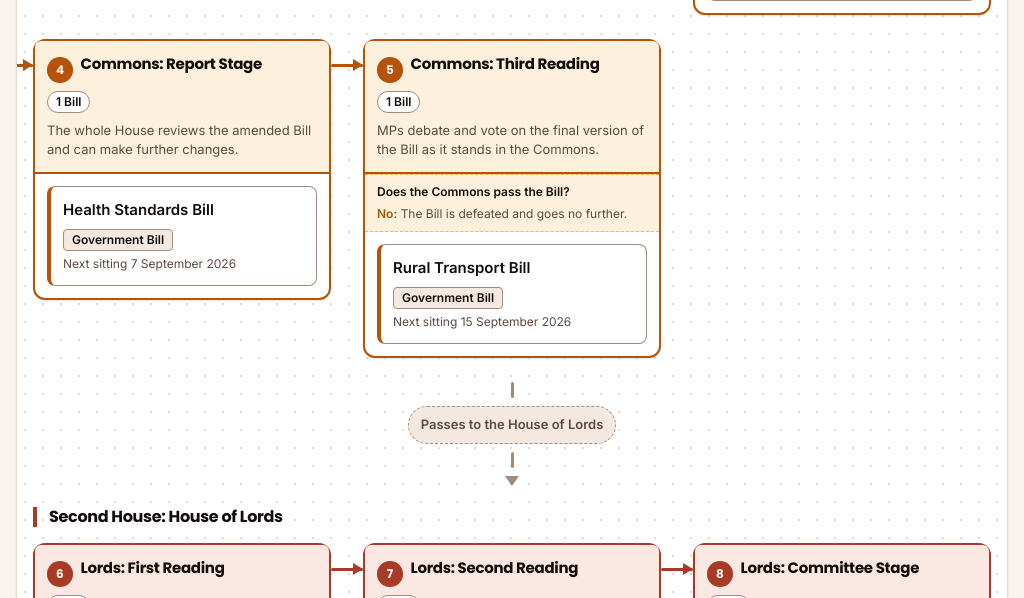
Scenario: the details panel › lists sponsors by name with no image
(page scrolled)
Click the button "Health Standards Bill" at point(138, 209), box [47,186,317,286]
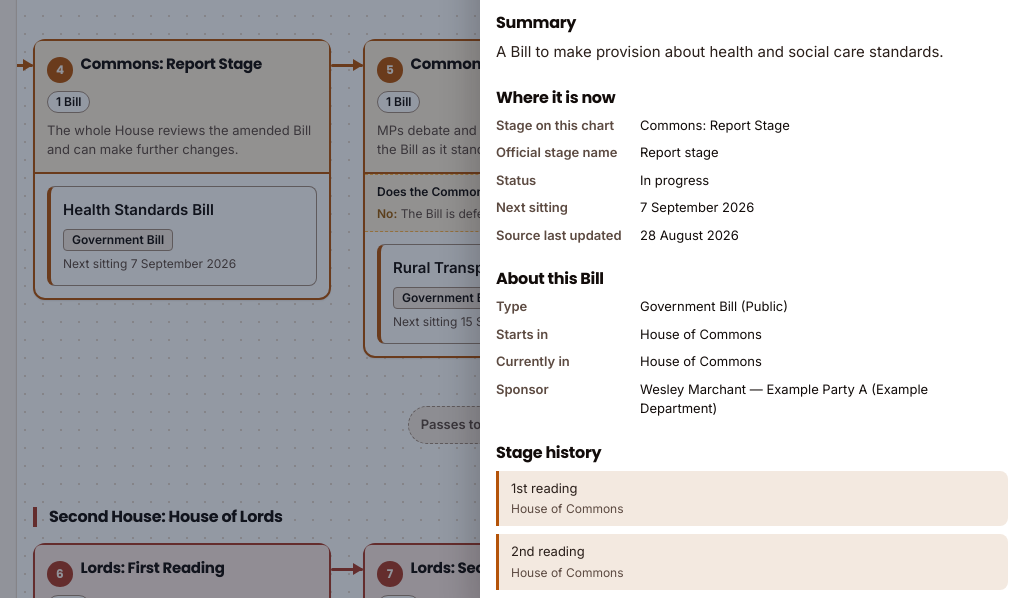
Expected: the list item "Wesley Marchant — Example Party A (Example Department)" is shown, [640,380,928,416]
